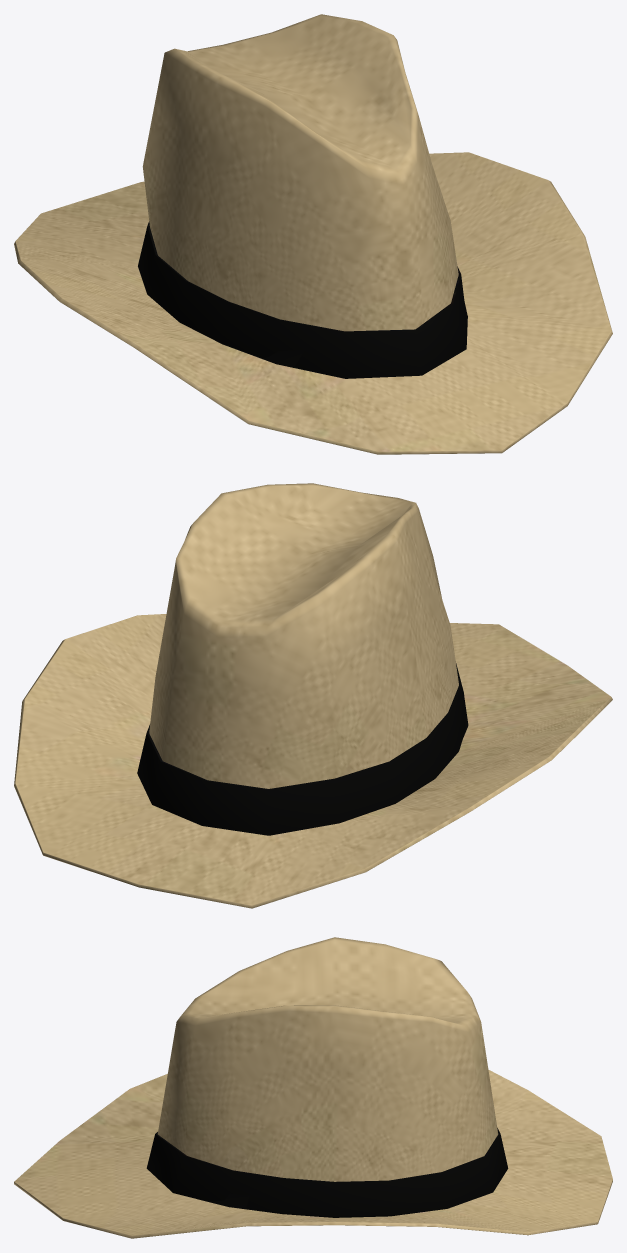
The model's file is croc_hat_trilby.glb.
3 renders of one model, top to bottom at view 1: azimuth 30°, elevation 25°; view 2: azimuth 150°, elevation 25°; view 3: azimuth 270°, elevation 25°, orthographic. The views are drawn at different scales.
Visible parts, largest first — view 1: CrocHat_trilby; view 2: CrocHat_trilby; view 3: CrocHat_trilby.
Part boxes in pixels (x1,y1,x2,y2): CrocHat_trilby: (14, 14, 612, 454); CrocHat_trilby: (14, 483, 612, 908); CrocHat_trilby: (14, 937, 612, 1238).
Bounding box in the file's own units: 0.4068 × 0.2021 × 0.5186.
Materials: 1 (1 with a texture image).
